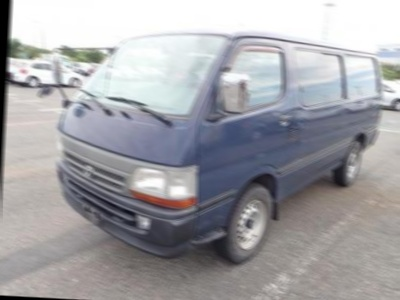van: (50, 20, 386, 269)
